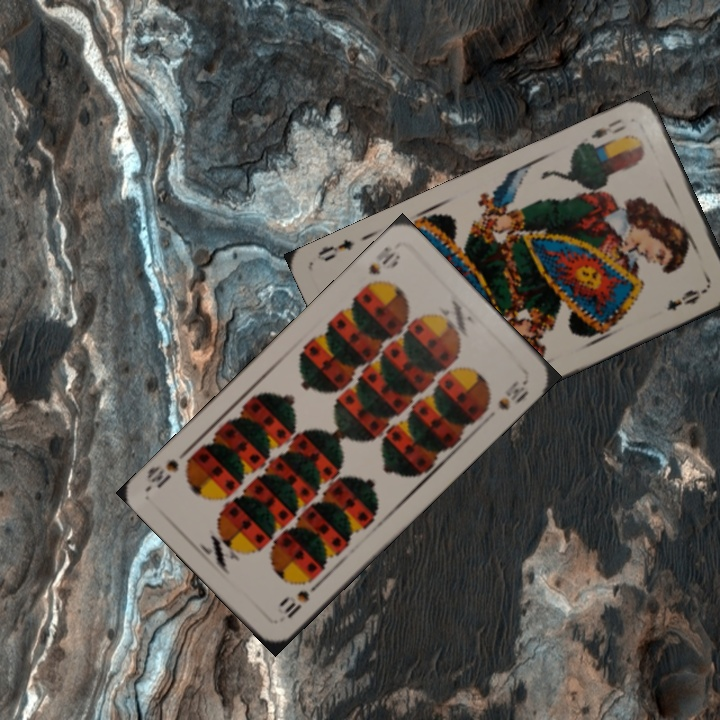EO: (586, 114, 629, 142)
S10: (358, 242, 403, 292), (276, 579, 322, 622)
